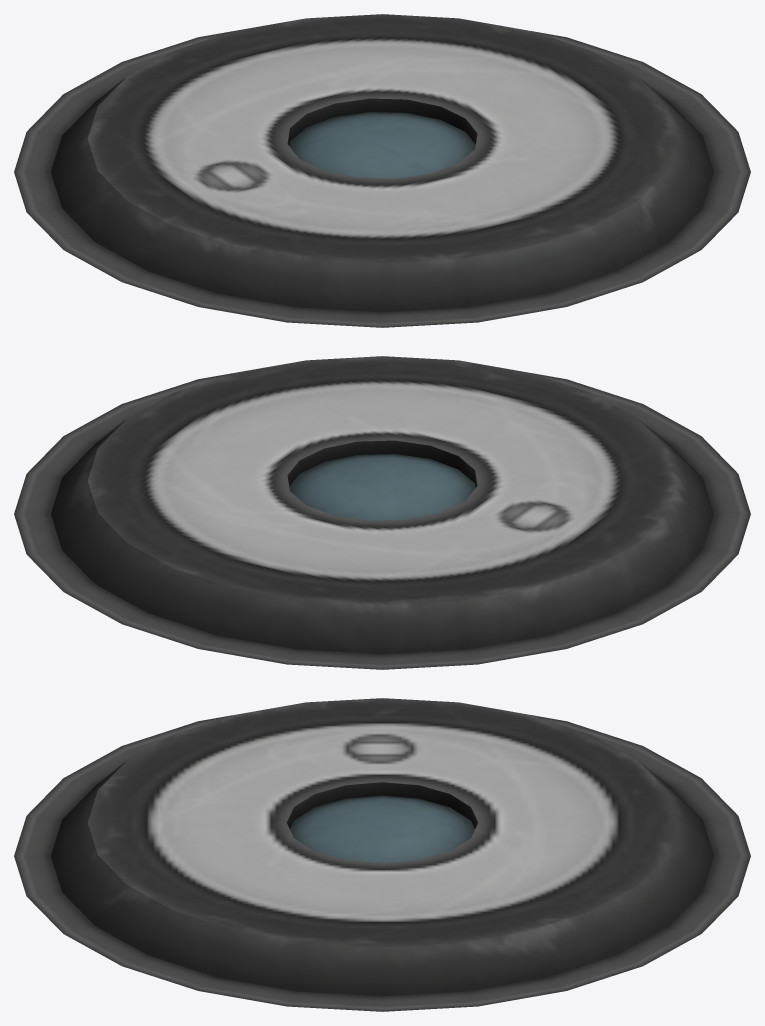
File: end_internal_s0.obj
The picture shows the model from 3 angles, top to bottom: view 1: azimuth 30°, elevation 25°; view 2: azimuth 150°, elevation 25°; view 3: azimuth 270°, elevation 25°; orthographic projection.
Parts seen in each view (by area): view 1: end; view 2: end; view 3: end.
Part boxes in pixels (x1,y1,x2,y2): end: (14,14,750,327); end: (14,356,750,669); end: (14,698,750,1011).
Bounding box in the file's own units: 0.625 × 0.0312 × 0.625.
